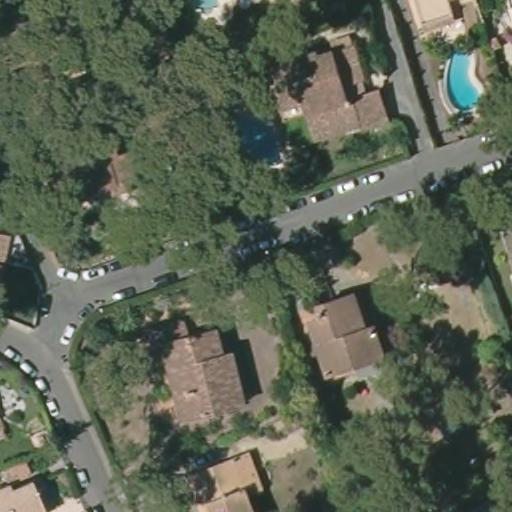pool: (434, 43, 491, 115), (180, 0, 230, 18)
